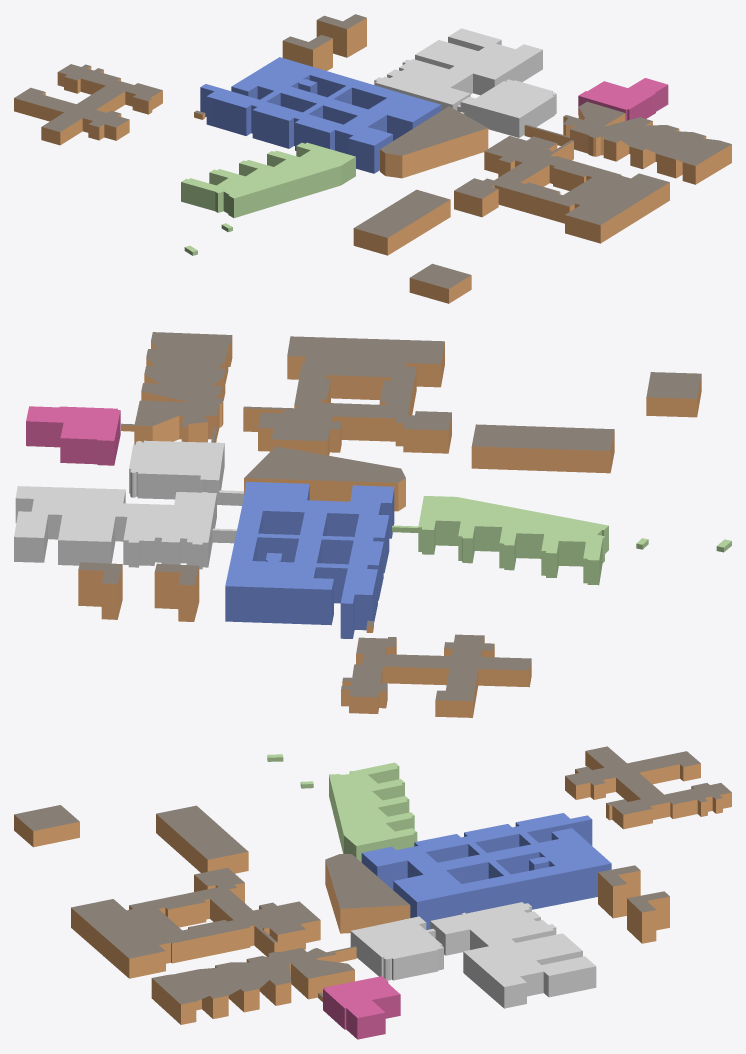
The model's file is HervantaOnlyBuildingsFromMixed.fbx.
3 views of the same model, one above another, from view 1: azimuth 30°, elevation 25°; view 2: azimuth 150°, elevation 25°; view 3: azimuth 270°, elevation 25° (orthographic). The views are drawn at different scales.
Parts seen in each view (by area): view 1: Festia, Sahkotalo, Konetalo, TietoTalo, Rakennustalo, Kampusareena, TTY-Parkki, Päärakennus, Tamppi Areena; view 2: Festia, Sahkotalo, Konetalo, Rakennustalo, TietoTalo, TTY-Parkki, Päärakennus, Kampusareena, Tamppi Areena; view 3: Festia, Sahkotalo, Konetalo, Rakennustalo, TietoTalo, Päärakennus, Kampusareena, TTY-Parkki, Tamppi Areena.
Part boxes in pixels (box(x1,y1,x2,y2)): Festia: box(14, 14, 731, 303); Sahkotalo: box(200, 57, 441, 173); Konetalo: box(454, 136, 669, 243); TietoTalo: box(181, 142, 355, 255); Rakennustalo: box(374, 28, 542, 110); Kampusareena: box(380, 106, 488, 178); TTY-Parkki: box(353, 189, 450, 255); Päärakennus: box(457, 79, 556, 137); Tamppi Areena: box(578, 78, 668, 120); Festia: box(78, 332, 701, 717); Sahkotalo: box(225, 481, 394, 638); Konetalo: box(243, 336, 451, 455); Rakennustalo: box(14, 486, 236, 569); TietoTalo: box(392, 496, 731, 585); TTY-Parkki: box(471, 424, 614, 473); Päärakennus: box(129, 440, 243, 505); Kampusareena: box(244, 446, 405, 511); Tamppi Areena: box(26, 406, 120, 465); Festia: box(14, 746, 731, 1024); Sahkotalo: box(361, 813, 611, 929); Konetalo: box(71, 867, 320, 978); Rakennustalo: box(430, 902, 596, 1008); TietoTalo: box(267, 754, 417, 862); Päärakennus: box(350, 916, 443, 980); Kampusareena: box(325, 854, 410, 933); TTY-Parkki: box(156, 805, 248, 873); Tamppi Areena: box(323, 976, 400, 1039).
Size of the model in its own units: 49532 by 3073 by 54498.
